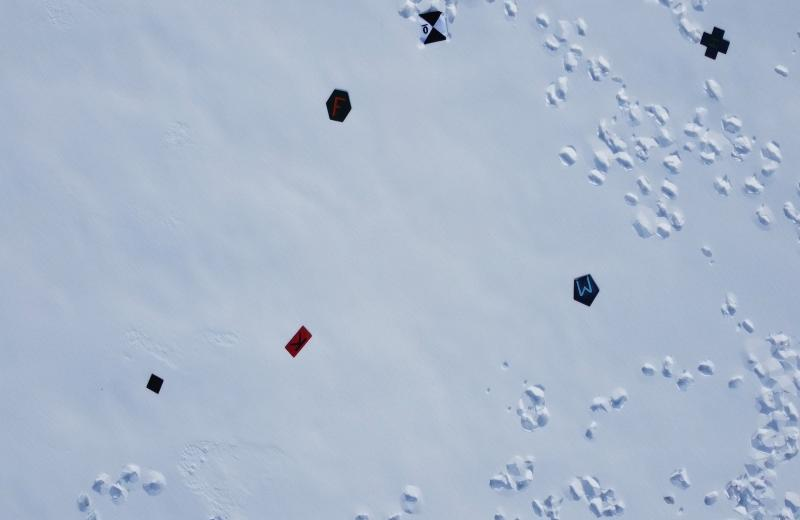Cross: (697, 25, 734, 61)
Hexagon: (322, 85, 357, 124)
Pentagon: (568, 271, 603, 312)
Rectangle: (283, 320, 314, 362)
Square: (144, 371, 167, 395)
